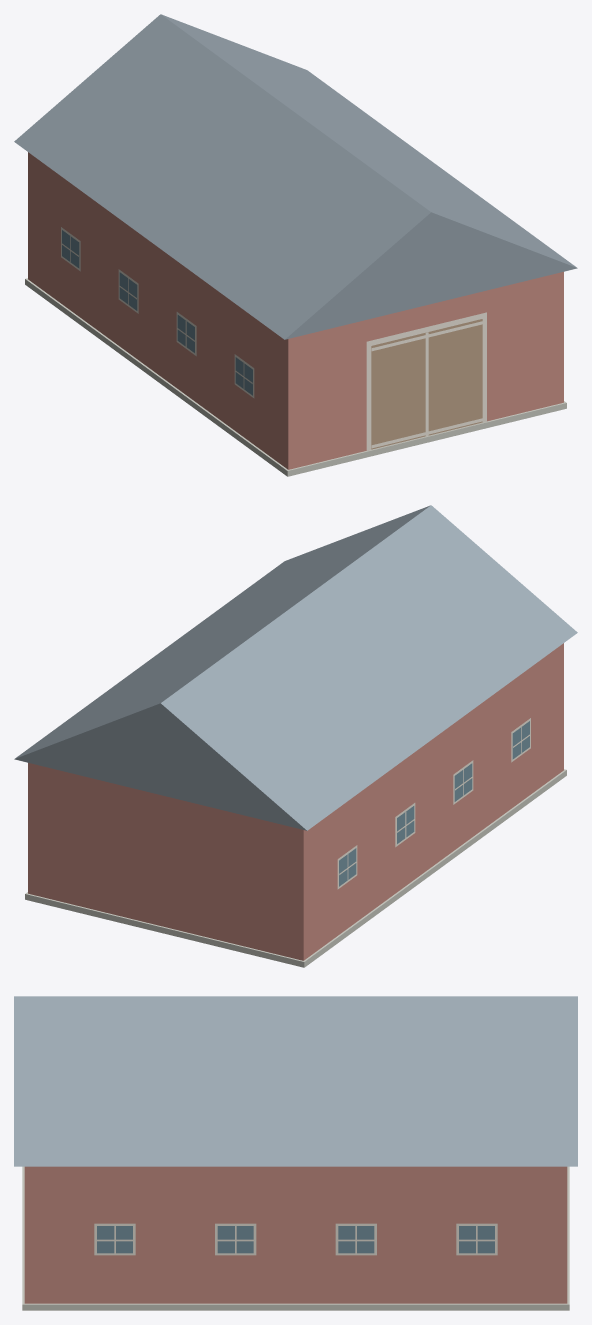
Rendered from barn-red.glb.
3 renders of one model, top to bottom at view 1: azimuth 30°, elevation 25°; view 2: azimuth 150°, elevation 25°; view 3: azimuth 270°, elevation 25°, orthographic. The views are drawn at different scales.
Parts seen in each view (by area): view 1: barn-red; view 2: barn-red; view 3: barn-red.
Boxes of the visible parts, x1,y1,x2,y2 form: barn-red: (14,14,577,476); barn-red: (14,505,577,967); barn-red: (14,996,577,1310).
Size of the model in its own units: 11.7 by 8.9 by 18.7.
